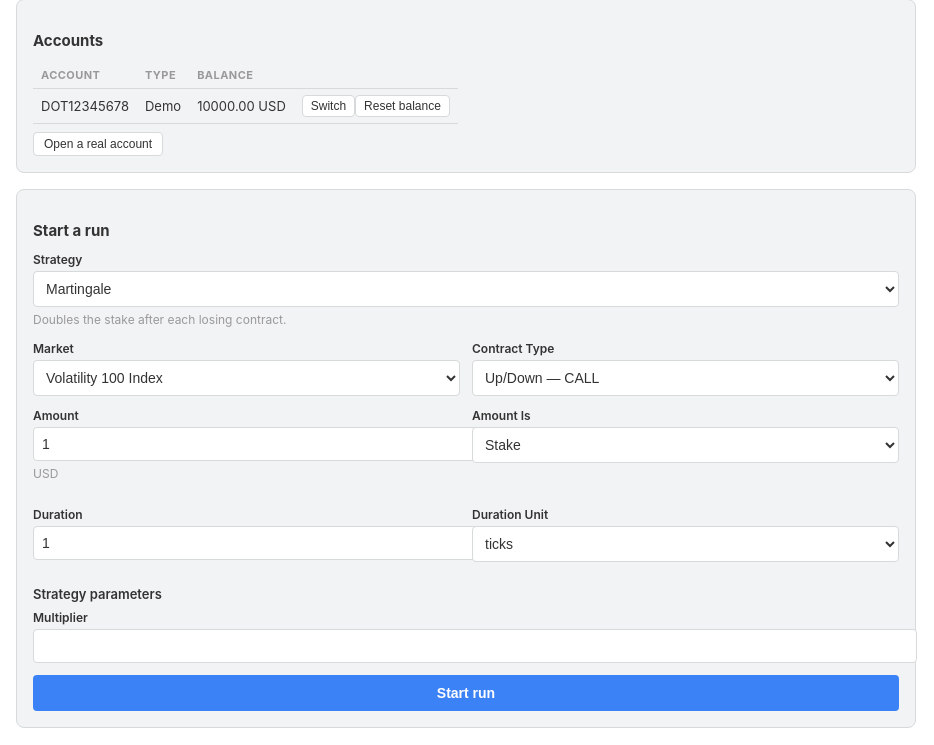
the automation panel › shows the run and offers a way to stop it once one is going
This screenshot has width=934, height=745.
(page scrolled)
Click the button "Start run": click(466, 693) x1=33 y1=675 x2=899 y2=711
(page scrolled)
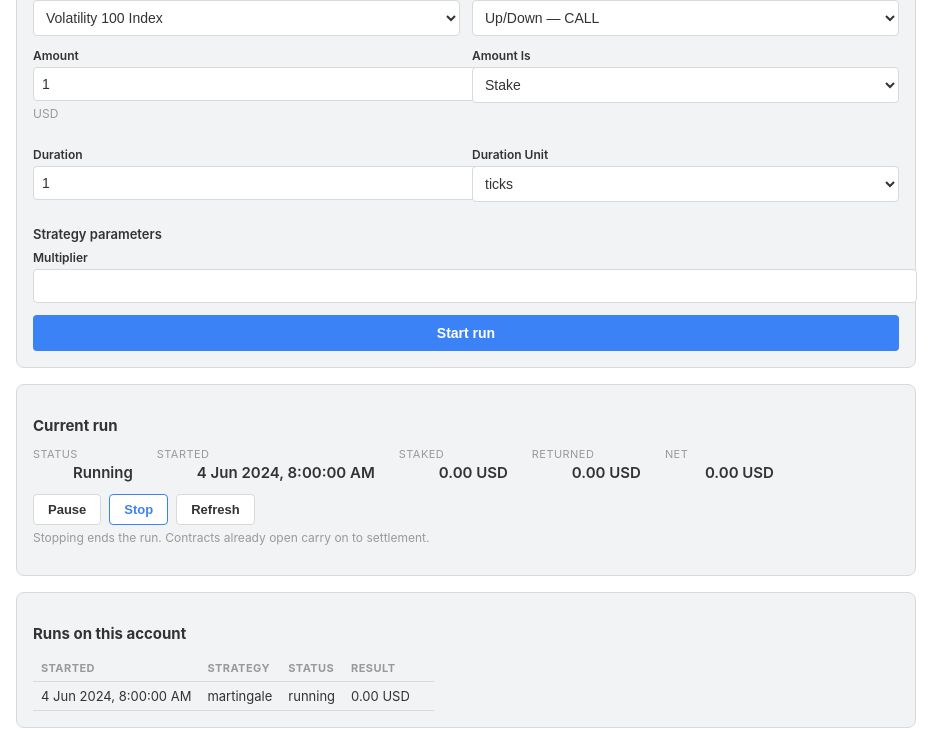
expect the button "Stop" is shown: met, box x1=109 y1=494 x2=168 y2=525
expect the button "Pause" is shown: met, box x1=33 y1=494 x2=101 y2=525
expect the text "Stopping ends the run" is shown: met, box x1=33 y1=530 x2=430 y2=545
